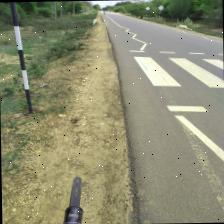crossing: (173, 113, 224, 163), (168, 56, 224, 89), (132, 54, 182, 87)
